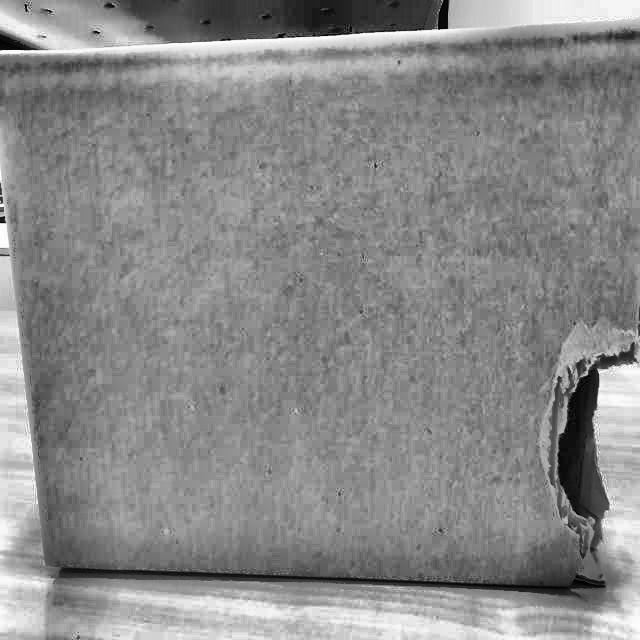box: (0, 0, 639, 596)
hole: (549, 338, 639, 590)
